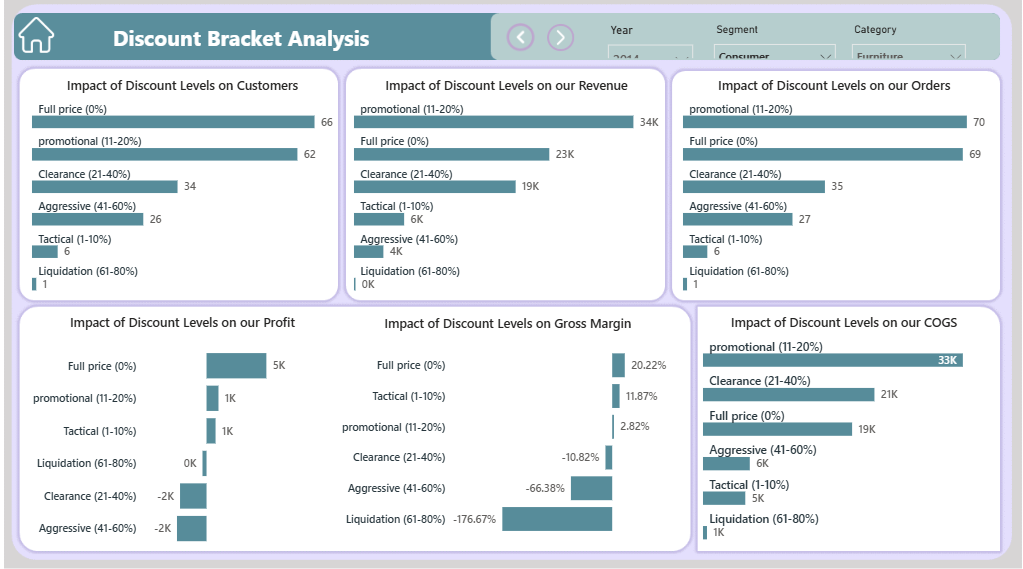

Layout of this report page (visuals, bound fields, positions):
{"tool":"powerbi","page":{"name":"Discount Band Analysis","canvas":[1280,720],"ordinal":1},"visuals":[{"type":"clusteredBarChart","title":"Impact of Discount Levels on Customers","fields":{"Category":["Retails Dataset.Discount band"],"Y":["My Measures.Dummy","My Measures.Total_Customer"]},"box":[30.2,97.4,388,275.5],"z":0},{"type":"clusteredBarChart","title":"Impact of Discount Levels on our Revenue","fields":{"Category":["Retails Dataset.Discount band"],"Y":["My Measures.Dummy","My Measures.Revenue"]},"box":[435.1,97.4,393.1,275.5],"z":1000},{"type":"clusteredBarChart","title":"Impact of Discount Levels on our Profit","fields":{"Category":["Retails Dataset.Discount band"],"Y":["My Measures.Total_Profit"]},"box":[30.2,396.4,388,309.1],"z":2000},{"type":"clusteredBarChart","title":"Impact of Discount Levels on Gross Margin","fields":{"Category":["Retails Dataset.Discount band"],"Y":["My Measures.Gross_margin"]},"box":[418.7,396.5,428.9,293.9],"z":3000},{"type":"clusteredBarChart","title":"Impact of Discount Levels on our Orders","fields":{"Category":["Retails Dataset.Discount band"],"Y":["My Measures.Dummy","My Measures.Total_Orders"]},"box":[848.3,97.4,389.7,275.5],"z":4000},{"type":"slicer","fields":{"Values":["Product Dim.Category"]},"box":[1055.5,24.5,162.7,51.8],"z":5000},{"type":"slicer","fields":{"Values":["Calendar Table.Year"]},"box":[748.8,23,126.7,53.3],"z":6000},{"type":"slicer","fields":{"Values":["Customer dim.Segment"]},"box":[882.7,24.5,172.8,51.8],"z":7000},{"type":"image","box":[671.6,30.8,56.4,39.3],"z":8000},{"type":"clusteredBarChart","title":"Impact of Discount Levels on our COGS","fields":{"Category":["Retails Dataset.Discount band"],"Y":["My Measures.Dummy","My Measures.COGS"]},"box":[873.5,396.4,364.5,290.6],"z":9000},{"type":"image","box":[627.2,30.8,44.4,37.6],"z":10000},{"type":"image","box":[10.1,24.5,60.5,44.6],"z":11000},{"type":"textbox","box":[132.5,24.5,437.8,51.8],"z":12000}]}

Visuals, with their boxes in screenshot pixels (x1, y1, x2, y2), scaled from the page's 1280x720 canvas onto the 1023x569 screenshot:
"Impact of Discount Levels on Customers" clusteredBarChart: box=[24, 77, 334, 295]
"Impact of Discount Levels on our Revenue" clusteredBarChart: box=[348, 77, 662, 295]
"Impact of Discount Levels on our Profit" clusteredBarChart: box=[24, 313, 334, 558]
"Impact of Discount Levels on Gross Margin" clusteredBarChart: box=[335, 313, 677, 546]
"Impact of Discount Levels on our Orders" clusteredBarChart: box=[678, 77, 989, 295]
slicer - Product Dim.Category: box=[844, 19, 974, 60]
slicer - Calendar Table.Year: box=[598, 18, 700, 60]
slicer - Customer dim.Segment: box=[705, 19, 844, 60]
image: box=[537, 24, 582, 55]
"Impact of Discount Levels on our COGS" clusteredBarChart: box=[698, 313, 989, 543]
image: box=[501, 24, 537, 54]
image: box=[8, 19, 56, 55]
textbox: box=[106, 19, 456, 60]
